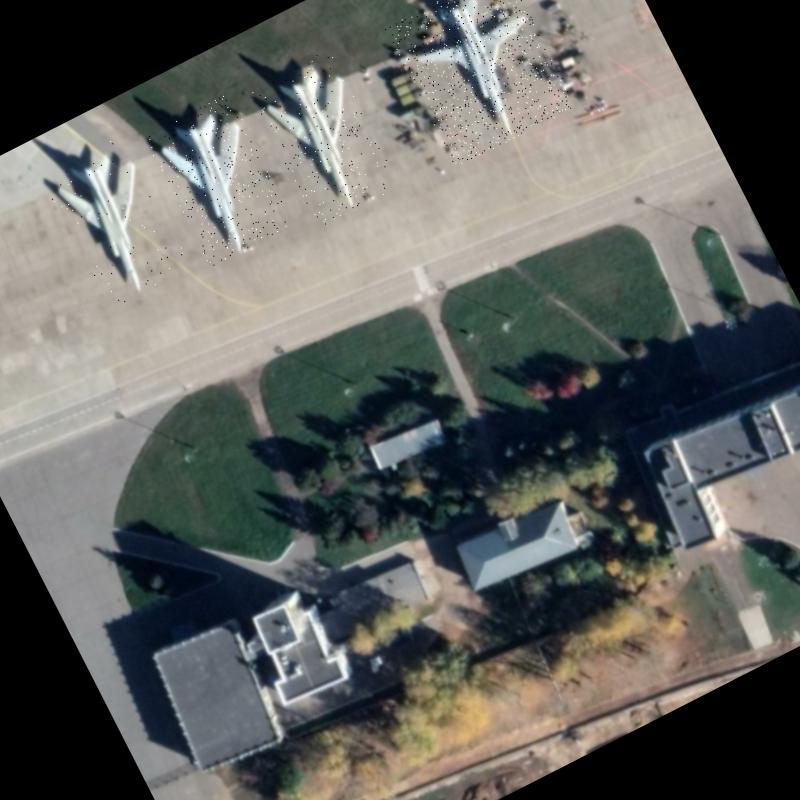A12: (384, 0, 576, 167), (38, 132, 193, 314), (247, 48, 400, 228), (142, 92, 296, 266)
